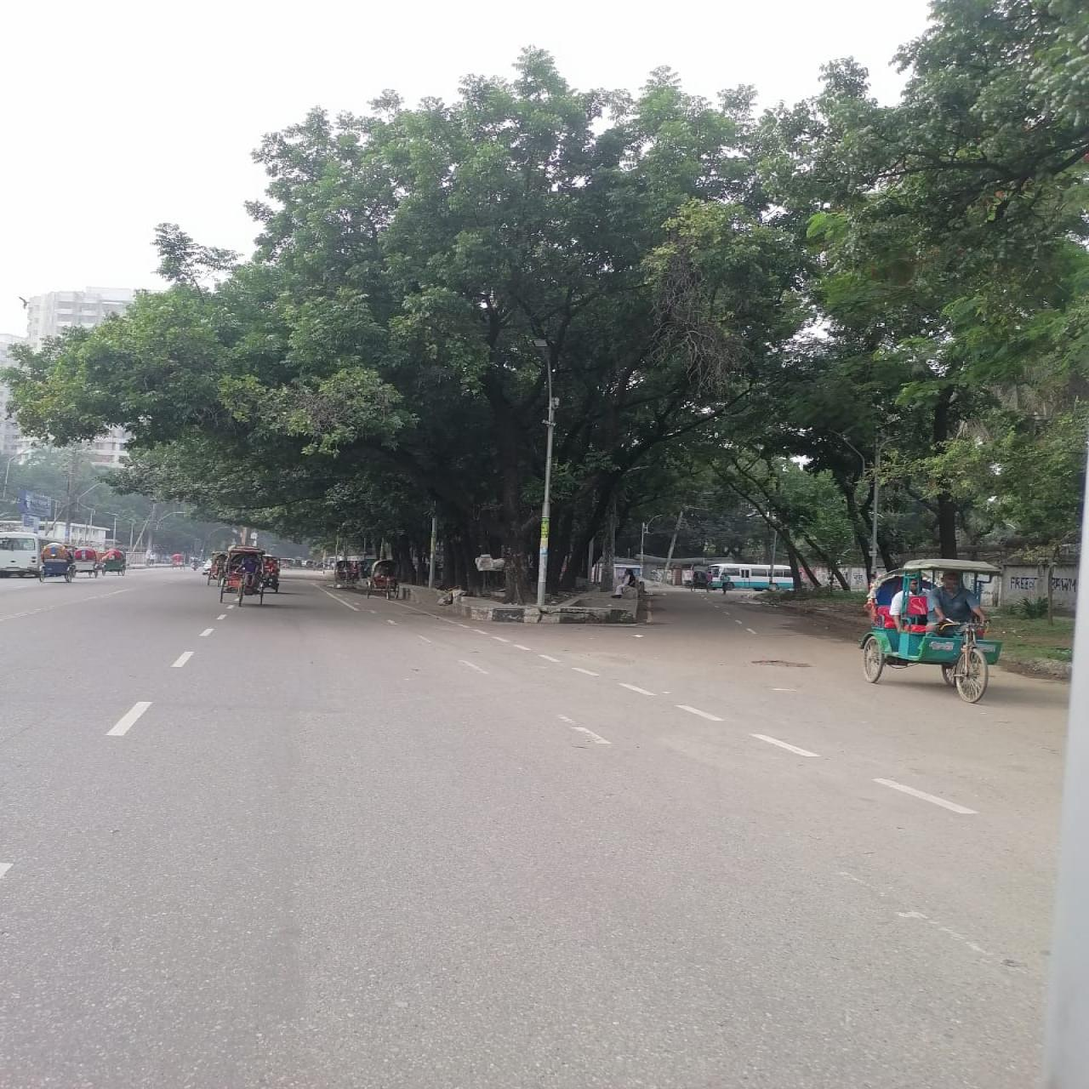person: (720, 573, 731, 596)
